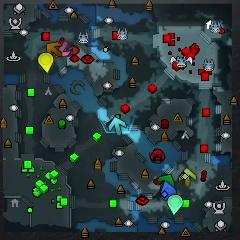p1: (161, 181, 177, 201)
p2: (168, 194, 183, 215)
p4: (38, 53, 53, 73)
x1: (59, 41, 70, 57)
x2: (179, 168, 196, 187)
x3: (108, 118, 126, 135)
x4: (158, 174, 174, 185)
x5: (46, 42, 62, 56)
